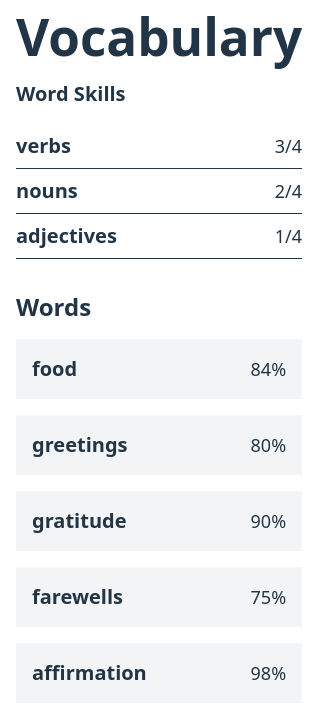
Test case: Vocabulary Page › Authenticated user › Happy Path › expands a word skill to show its subcategories
The image size is (320, 712).
Click the element with test id "word-skill" showing "verbs 3/4".
click(159, 147)  # box [16,124,302,169]
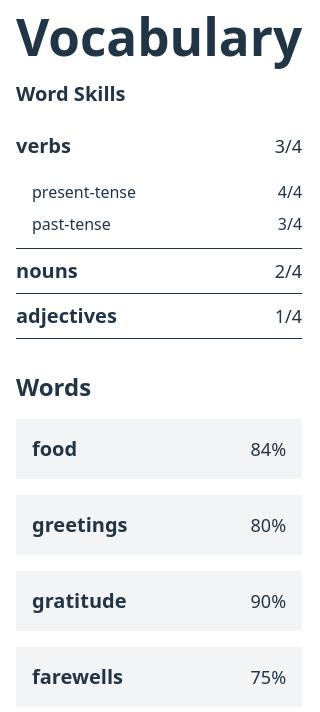
Expected: the element with test id "subcategory-section" is shown, [16,176,302,240]
